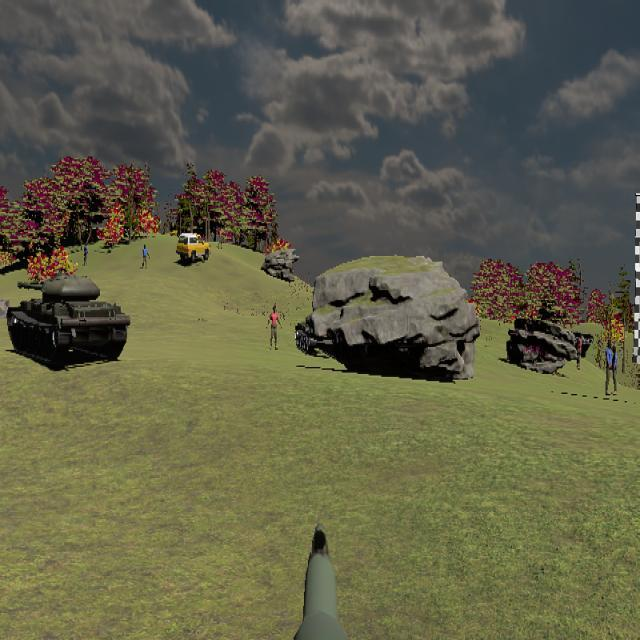Human: (266, 304, 282, 351)
Tank: (7, 273, 131, 365)
car: (176, 232, 210, 264)
